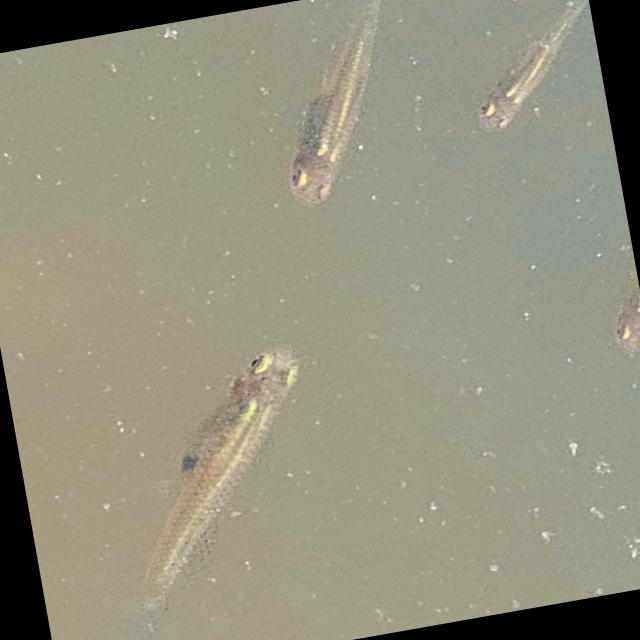Sivrisinek Baligi: (96, 341, 341, 623), (257, 0, 427, 201), (459, 0, 608, 133)
